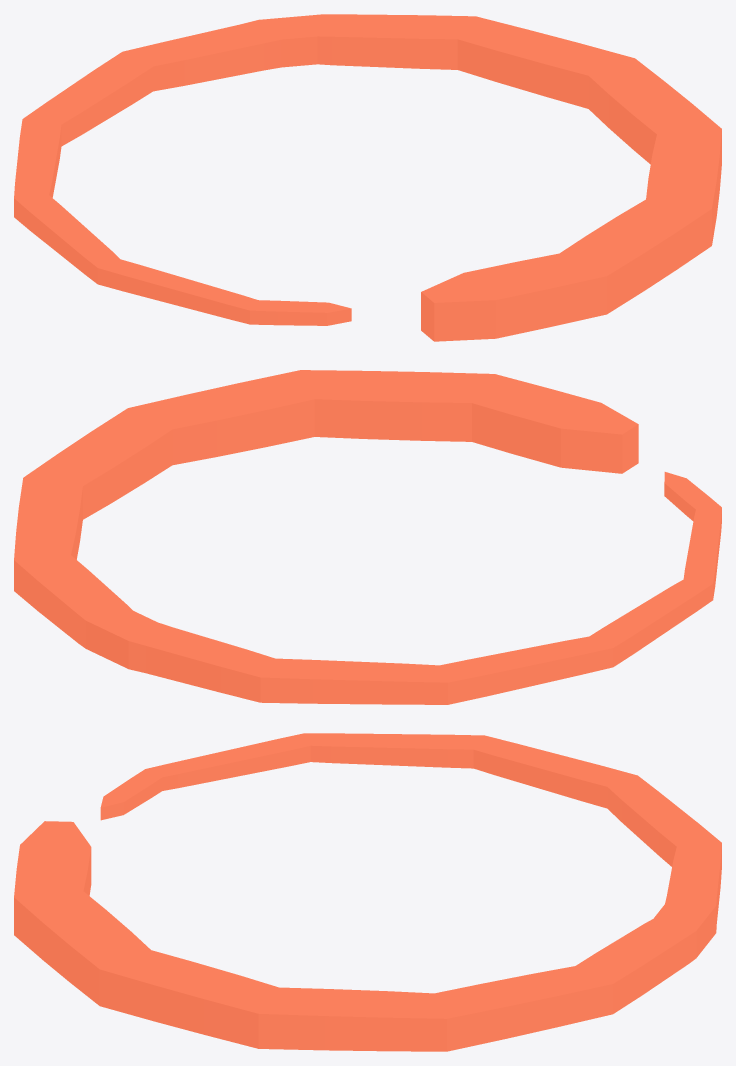
The model's file is enso.fbx.
The picture shows the model from 3 angles, top to bottom: view 1: azimuth 30°, elevation 25°; view 2: azimuth 150°, elevation 25°; view 3: azimuth 270°, elevation 25°; orthographic projection. The views are drawn at different scales.
Visible parts, largest first — view 1: Circle.009; view 2: Circle.009; view 3: Circle.009.
Boxes of the visible parts, left/top/right/bottom form: Circle.009: left=14, top=14, right=721, bottom=341; Circle.009: left=14, top=370, right=721, bottom=704; Circle.009: left=14, top=733, right=721, bottom=1051.
Size of the model in its own units: 136 by 8.24 by 138.
